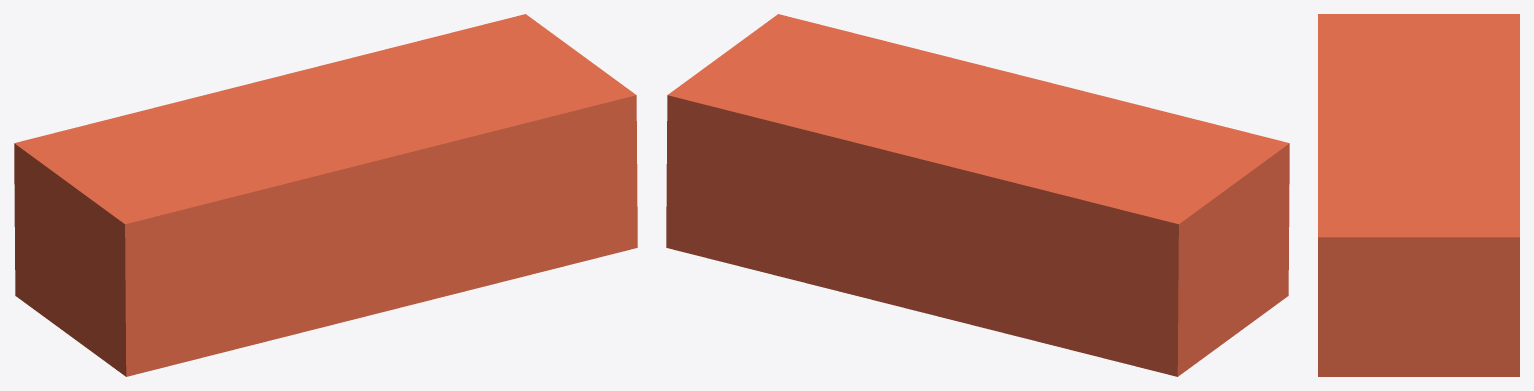
File: brick.FBX
3 views of the same model, side by side, from view 1: azimuth 30°, elevation 25°; view 2: azimuth 150°, elevation 25°; view 3: azimuth 270°, elevation 25° (orthographic). The views are drawn at different scales.
Parts seen in each view (by area): view 1: Box035; view 2: Box035; view 3: Box035.
Boxes of the visible parts, box(x1,y1,x2,y2) form: Box035: box(14, 14, 637, 376); Box035: box(666, 14, 1289, 376); Box035: box(1318, 14, 1519, 376).
Size of the model in its own units: 8.09 by 2.37 by 3.03.
